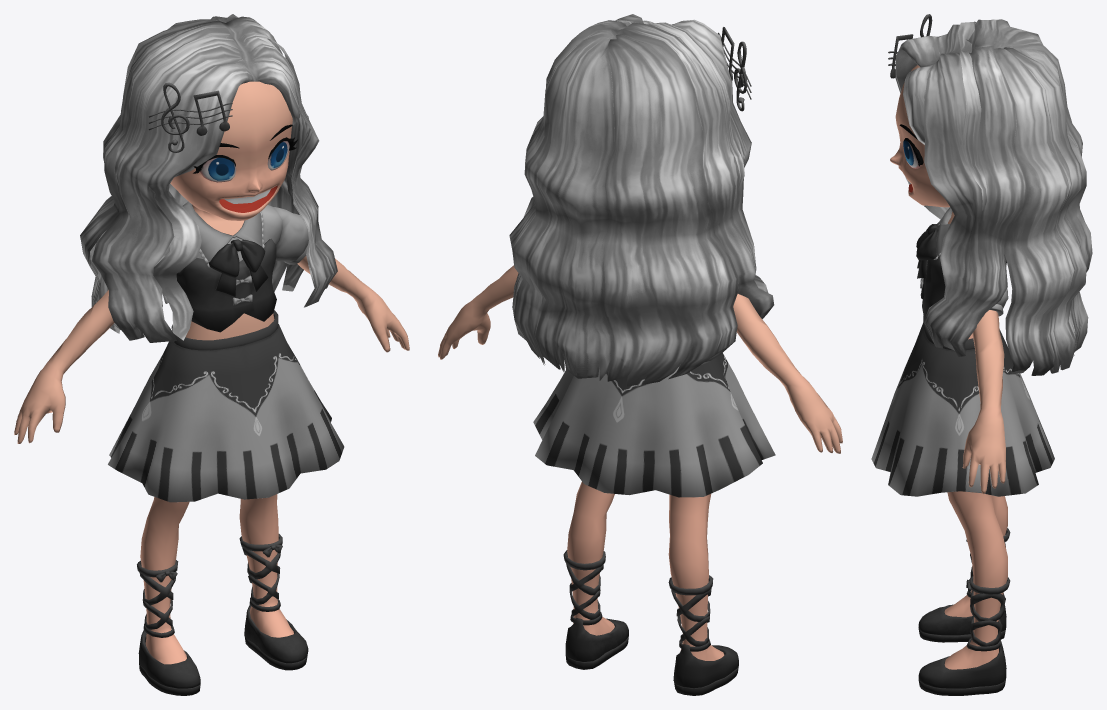
Rendered from Female_01 220722.fbx.
3 renders of one model, left to right at view 1: azimuth 30°, elevation 25°; view 2: azimuth 150°, elevation 25°; view 3: azimuth 270°, elevation 25°, orthographic. The views are drawn at different scales.
Visible parts, largest first — view 1: Female_Hair_01, Female_01_Bottom, Female_01_Top, Female_Face, Female_01_Shoes, Female_01_Acc; view 2: Female_Hair_01, Female_01_Bottom, Female_01_Shoes, Female_01_Top, Female_01_Acc; view 3: Female_Hair_01, Female_01_Bottom, Female_01_Top, Female_01_Shoes, Female_Face, Female_01_Acc.
Boxes of the visible parts, <box> form: Female_Hair_01: <box>80,14,337,342</box>; Female_01_Bottom: <box>108,310,344,664</box>; Female_01_Top: <box>14,201,409,443</box>; Female_Face: <box>170,81,297,220</box>; Female_01_Shoes: <box>137,534,308,695</box>; Female_01_Acc: <box>148,82,232,152</box>; Female_Hair_01: <box>509,14,774,386</box>; Female_01_Bottom: <box>533,353,775,660</box>; Female_01_Shoes: <box>563,550,738,695</box>; Female_01_Top: <box>438,265,842,453</box>; Female_01_Acc: <box>718,27,751,111</box>; Female_Hair_01: <box>895,19,1092,375</box>; Female_01_Bottom: <box>871,315,1054,669</box>; Female_01_Top: <box>916,207,1008,493</box>; Female_01_Shoes: <box>918,528,1010,695</box>; Female_Face: <box>890,65,949,207</box>; Female_01_Acc: <box>888,14,932,78</box>.
Bounding box in the file's own units: 122 × 189 × 60.14.
